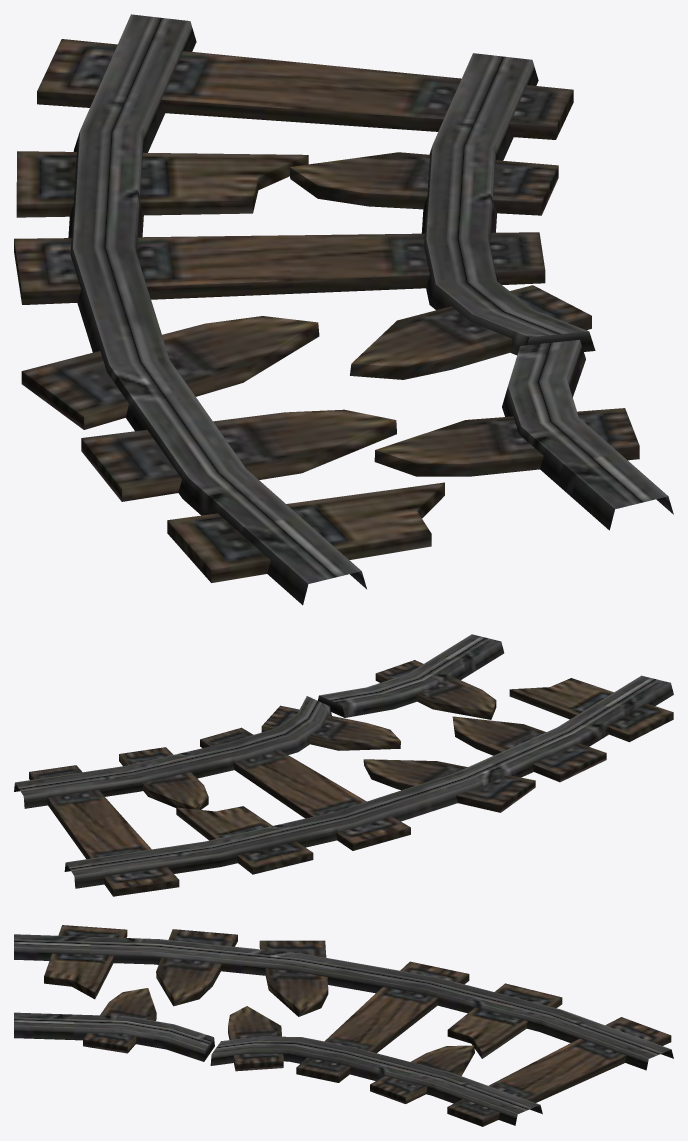
File: Treasure_Rail_04.FBX
3 renders of one model, top to bottom at view 1: azimuth 30°, elevation 25°; view 2: azimuth 150°, elevation 25°; view 3: azimuth 270°, elevation 25°, orthographic. The views are drawn at different scales.
Parts seen in each view (by area): view 1: Treasure_Rail_04; view 2: Treasure_Rail_04; view 3: Treasure_Rail_04.
Boxes of the visible parts, x1,y1,x2,y2 form: Treasure_Rail_04: [14, 14, 673, 605]; Treasure_Rail_04: [14, 634, 673, 896]; Treasure_Rail_04: [14, 925, 673, 1126].
Bounding box in the file's own units: 2.29 × 0.058 × 3.27.
